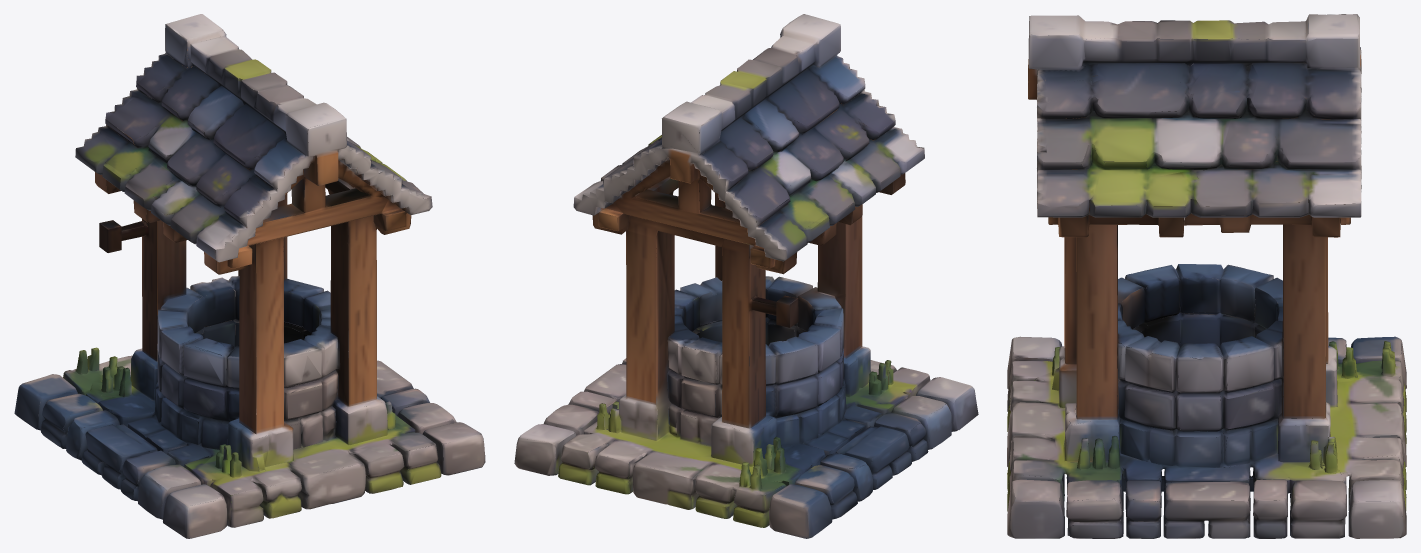
The model's file is well.glb.
3 renders of one model, left to right at view 1: azimuth 30°, elevation 25°; view 2: azimuth 150°, elevation 25°; view 3: azimuth 270°, elevation 25°, orthographic. The views are drawn at different scales.
Parts seen in each view (by area): view 1: node_0; view 2: node_0; view 3: node_0.
Part boxes in pixels (<box>): node_0: <box>14,14,485,538</box>; node_0: <box>514,14,978,538</box>; node_0: <box>1007,14,1406,538</box>.
Size of the model in its own units: 0.6615 by 0.7788 by 0.6545.
1 material, 1 textured.
